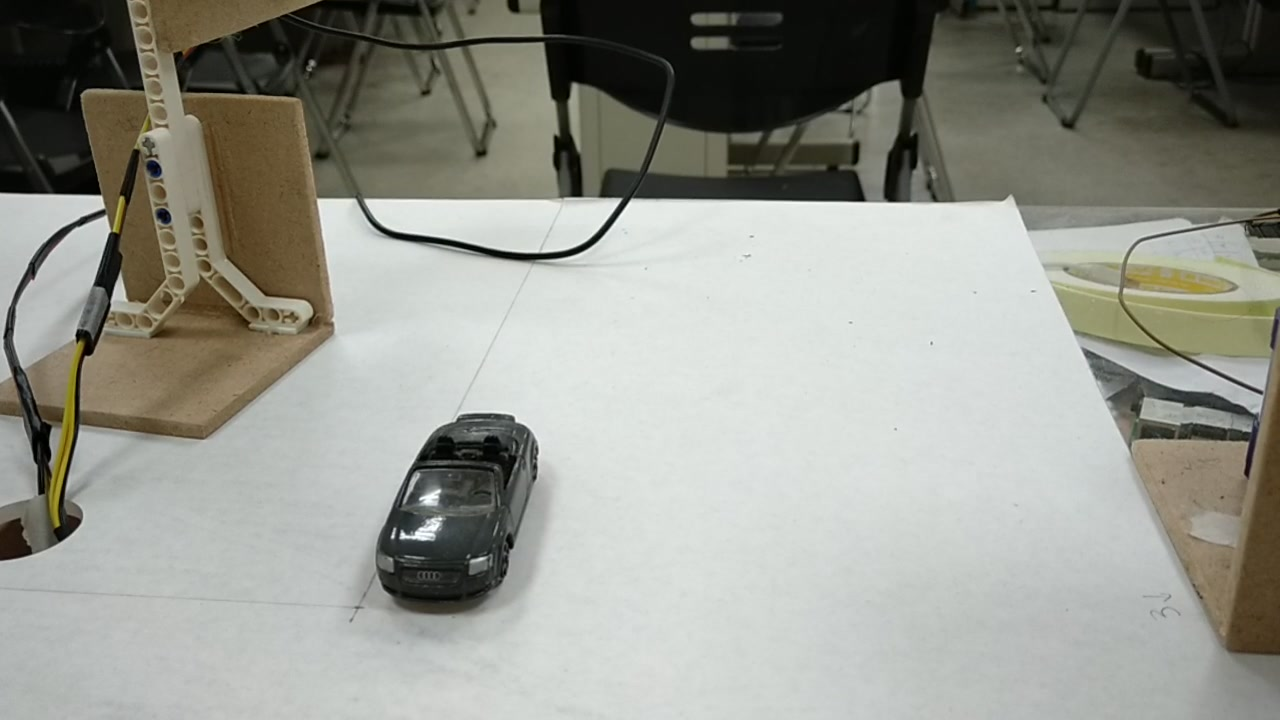car: (373, 417, 541, 613)
